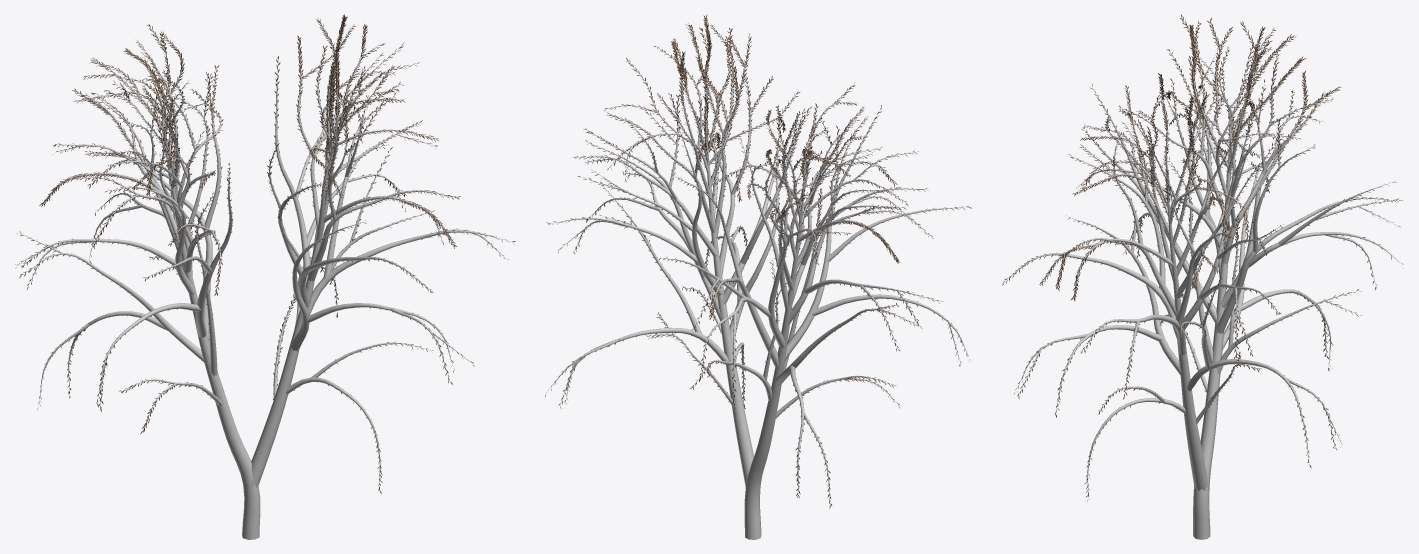
File: agac.fbx
3 views of the same model, side by side, from view 1: azimuth 30°, elevation 25°; view 2: azimuth 150°, elevation 25°; view 3: azimuth 270°, elevation 25° (orthographic). The views are drawn at different scales.
Parts seen in each view (by area): view 1: agac; view 2: agac; view 3: agac.
Boxes of the visible parts, x1,y1,x2,y2 form: agac: [15, 14, 515, 539]; agac: [545, 14, 971, 539]; agac: [1002, 14, 1403, 539].
Bounding box in the file's own units: 1853 × 2113 × 1553.
